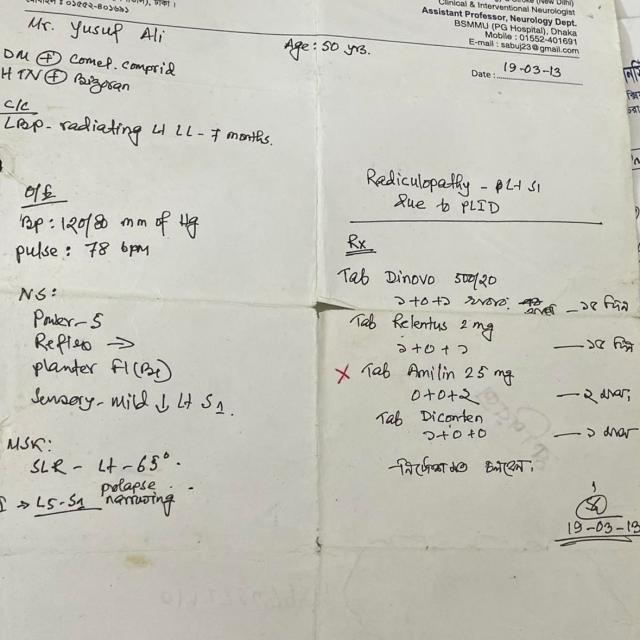Amilin: (405, 362, 460, 386)
Diconten: (417, 407, 488, 429)
Dinovo: (378, 265, 439, 290)
Relentus: (392, 312, 450, 336)
